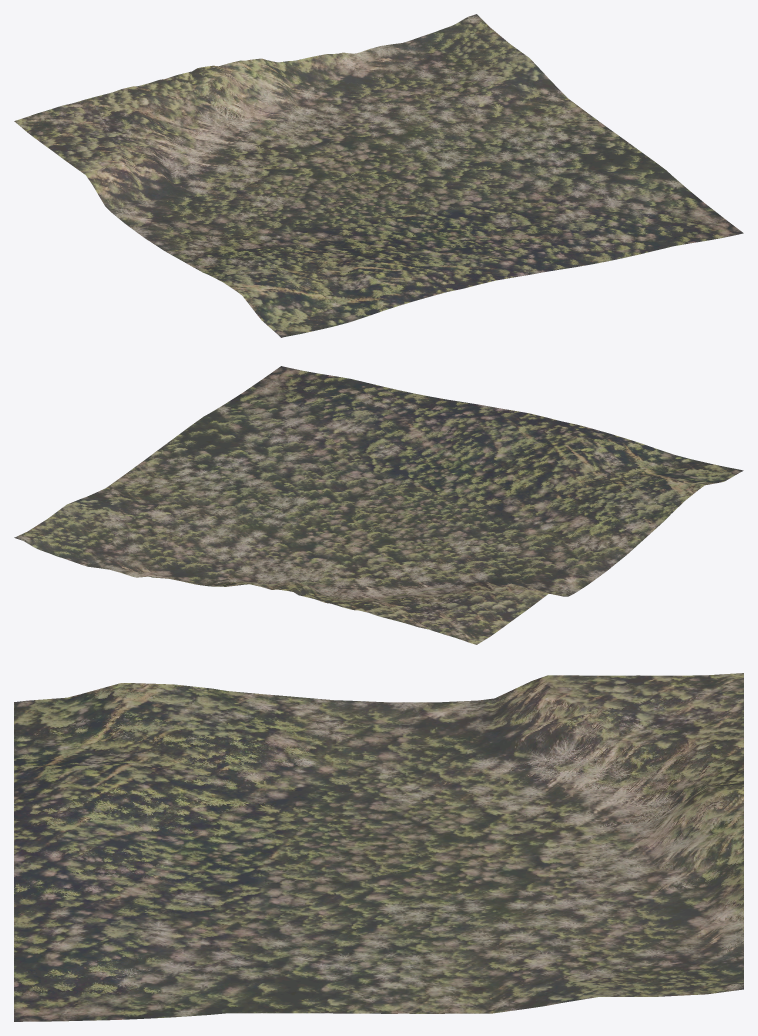
Rendered from CM_Terrain_24490663_6822456.fbx.
3 renders of one model, top to bottom at view 1: azimuth 30°, elevation 25°; view 2: azimuth 150°, elevation 25°; view 3: azimuth 270°, elevation 25°, orthographic. The views are drawn at different scales.
Parts seen in each view (by area): view 1: CM_Terrain_24490663_6822456_LOD0; view 2: CM_Terrain_24490663_6822456_LOD0; view 3: CM_Terrain_24490663_6822456_LOD0.
Part boxes in pixels (x1=…): CM_Terrain_24490663_6822456_LOD0: x1=14, y1=14, x2=743, y2=337; CM_Terrain_24490663_6822456_LOD0: x1=14, y1=366, x2=743, y2=644; CM_Terrain_24490663_6822456_LOD0: x1=14, y1=673, x2=743, y2=1021.
Size of what is drawn, in the model's own units: 205 by 15.94 by 205.
